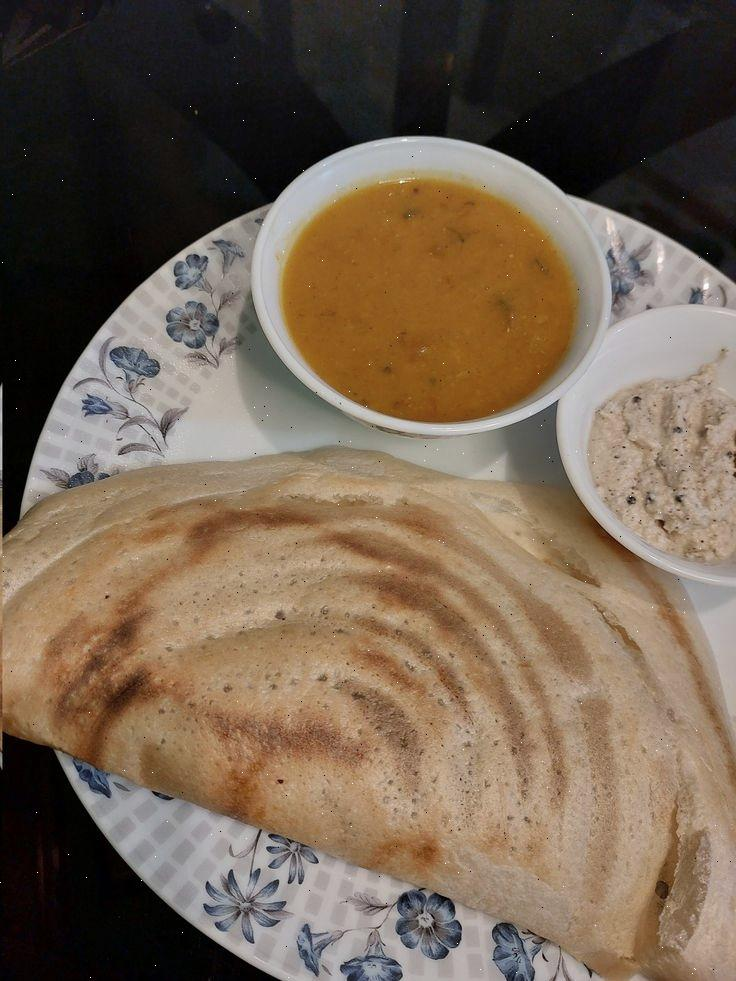dosa: (0, 463, 736, 956)
